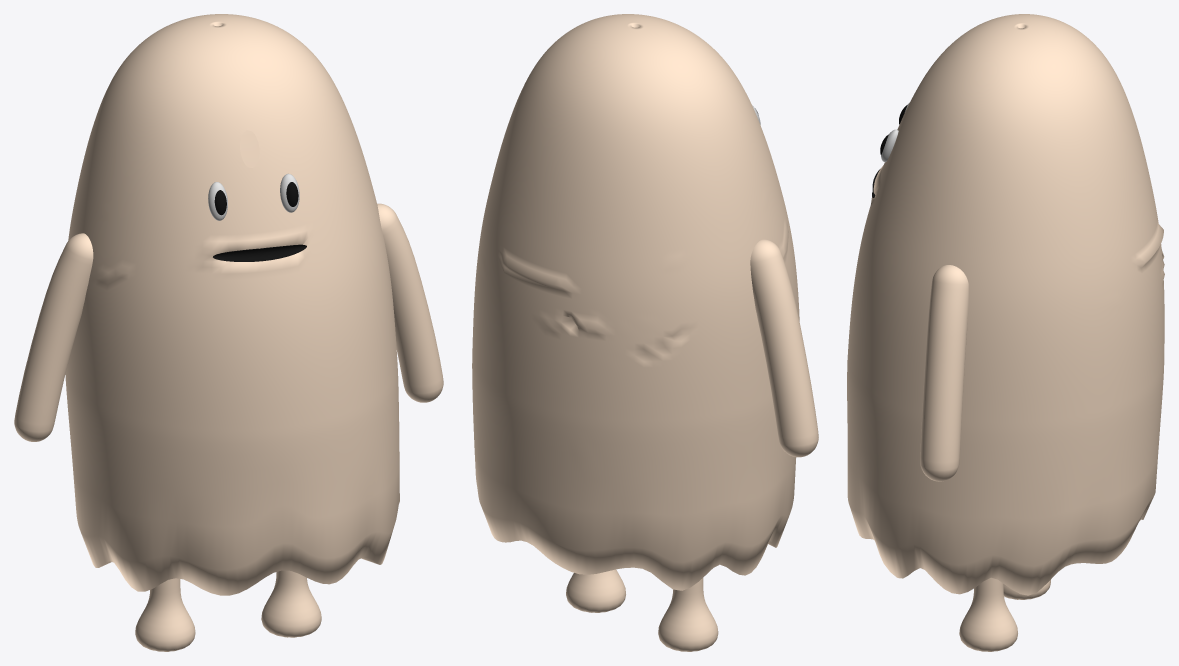
Rendered from Versão1_MENNY_S_TurboSmooth.FBX.
3 views of the same model, side by side, from view 1: azimuth 30°, elevation 25°; view 2: azimuth 150°, elevation 25°; view 3: azimuth 270°, elevation 25° (orthographic). The views are drawn at different scales.
Parts seen in each view (by area): view 1: menny, braços, 2_PES, boca; view 2: menny, braços, 2_PES; view 3: menny, braços, 2_PES.
Part boxes in pixels (x1,y1,x2,y2): menny: (65,14,399,595); braços: (14,203,443,441); 2_PES: (135,570,321,651); boca: (213,244,306,261); menny: (472,14,799,590); braços: (750,239,818,457); 2_PES: (566,569,718,651); menny: (847,14,1164,595); braços: (920,265,968,481); 2_PES: (959,577,1050,651).
Bounding box in the file's own units: 34.81 × 54.39 × 26.44.
